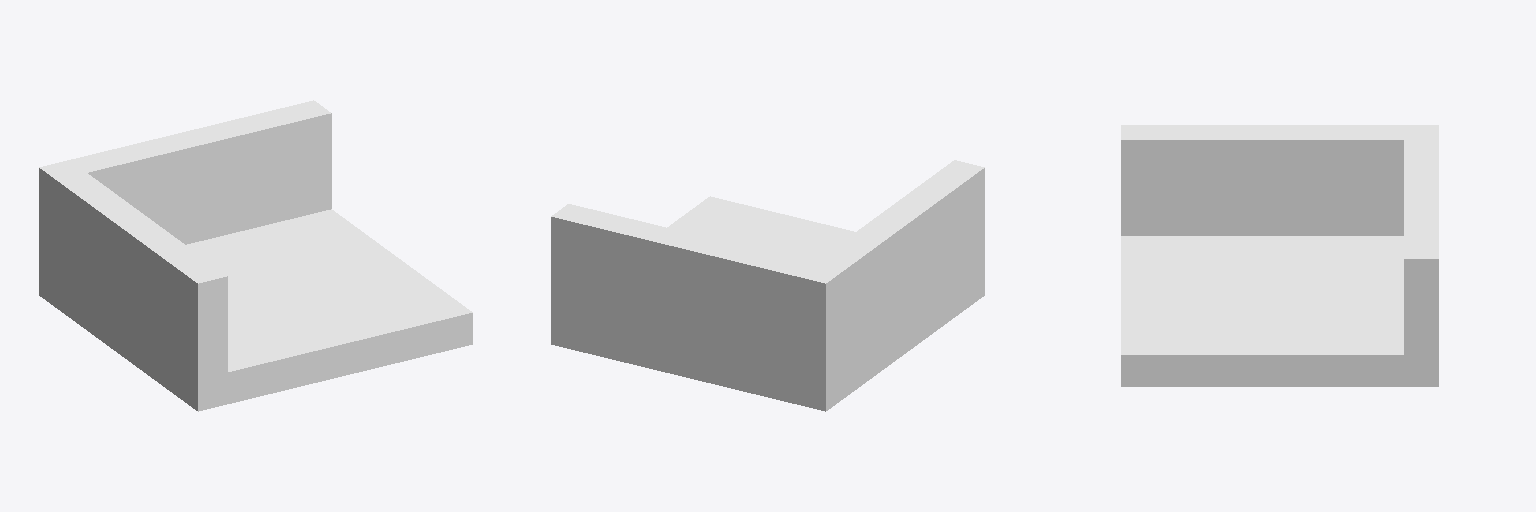
Rendered from stone-map-ground.obj.
The picture shows the model from 3 angles: view 1: azimuth 30°, elevation 25°; view 2: azimuth 150°, elevation 25°; view 3: azimuth 270°, elevation 25°; orthographic projection.
Parts seen in each view (by area): view 1: object 1; view 2: object 1; view 3: object 1.
Boxes of the visible parts, x1,y1,x2,y2 form: object 1: [39, 100, 472, 411]; object 1: [551, 160, 984, 411]; object 1: [1121, 125, 1438, 386].
Size of the model in its own units: 9 by 4 by 9.